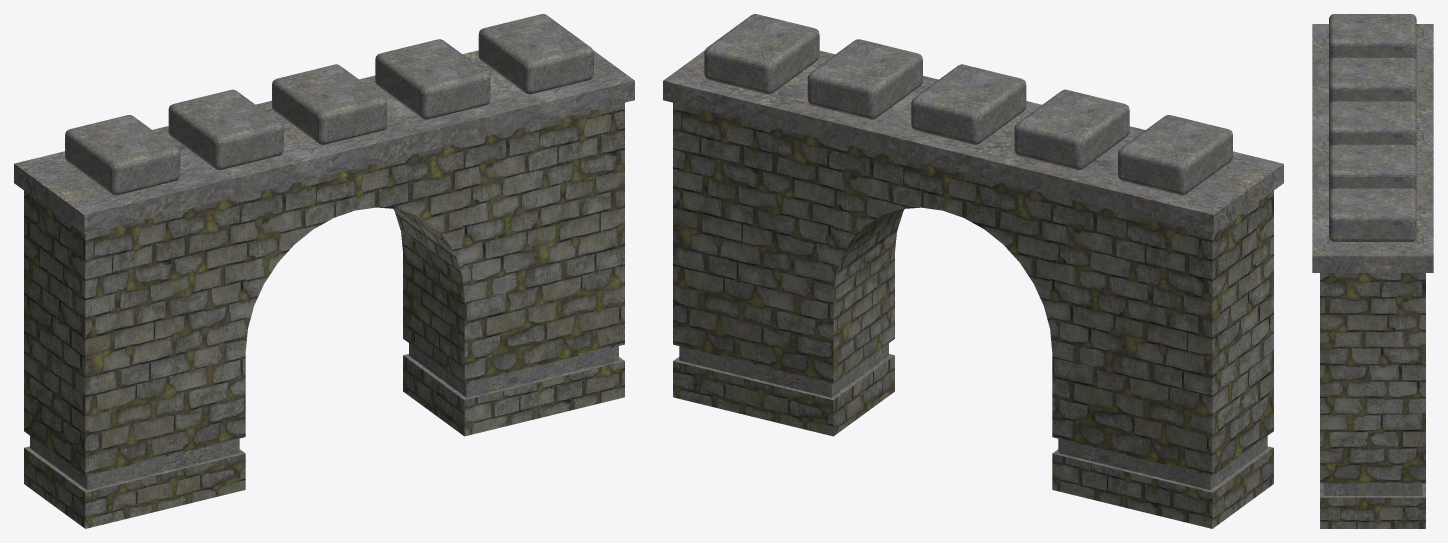
The model's file is castle-door.glb.
3 renders of one model, left to right at view 1: azimuth 30°, elevation 25°; view 2: azimuth 150°, elevation 25°; view 3: azimuth 270°, elevation 25°, orthographic. The views are drawn at different scales.
Bounding box in the file's own units: 7.93 × 4.83 × 1.75.
1 material, 1 textured.
